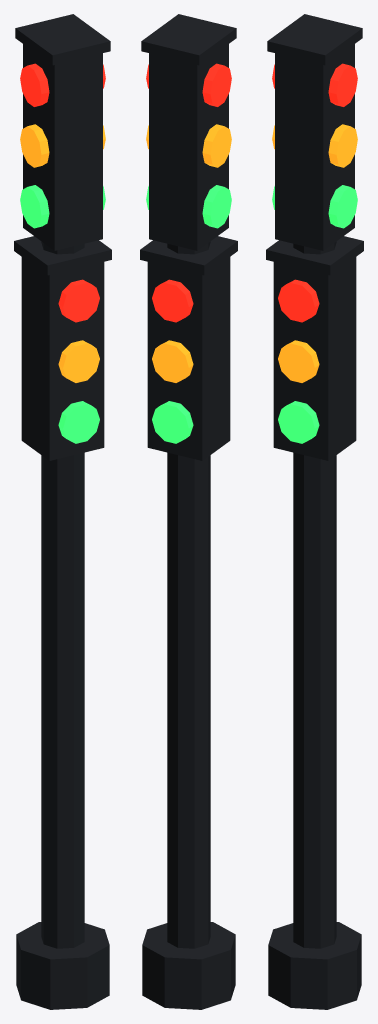
Rendered from traffic_light.glb.
3 renders of one model, left to right at view 1: azimuth 30°, elevation 25°; view 2: azimuth 150°, elevation 25°; view 3: azimuth 330°, elevation 25°, orthographic.
Visible parts, largest first — view 1: TrafficLight; view 2: TrafficLight; view 3: TrafficLight.
Boxes of the visible parts, left/top/right/bottom form: TrafficLight: left=14, top=14, right=111, bottom=1009; TrafficLight: left=140, top=14, right=237, bottom=1009; TrafficLight: left=266, top=14, right=363, bottom=1009.
Bounding box in the file's own units: 0.52 × 5.67 × 0.52.
